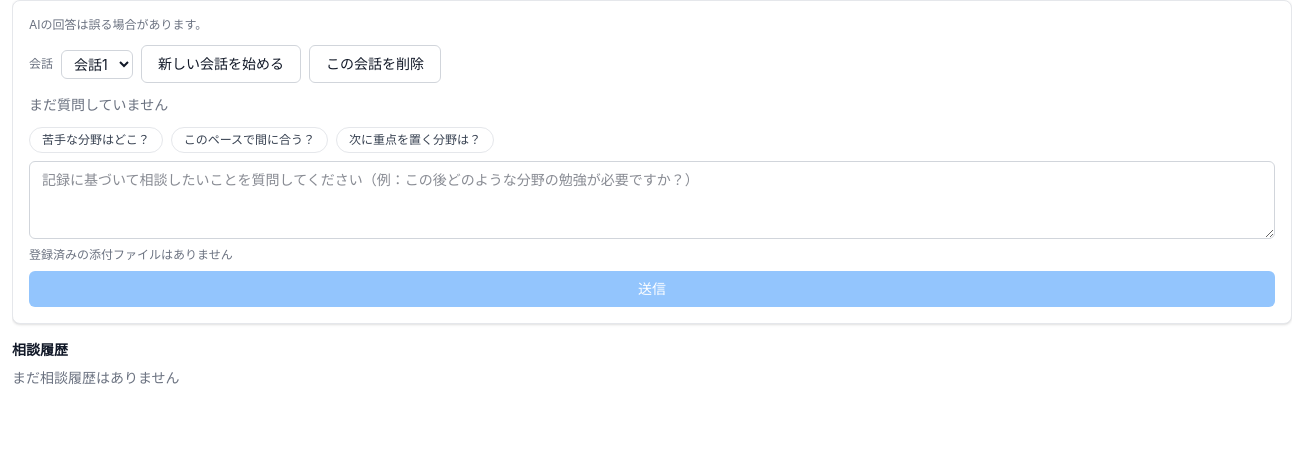
GoalConsultationTab › 送信中は入力を無効化し、送信中の表示を出す
Step 1. Type "質問" into the text box labelled "記録に基づいて相談したいことを質問してください（例：この後どのような分野の勉強が必要ですか？）" → (652, 200), box [29,161,1275,239]
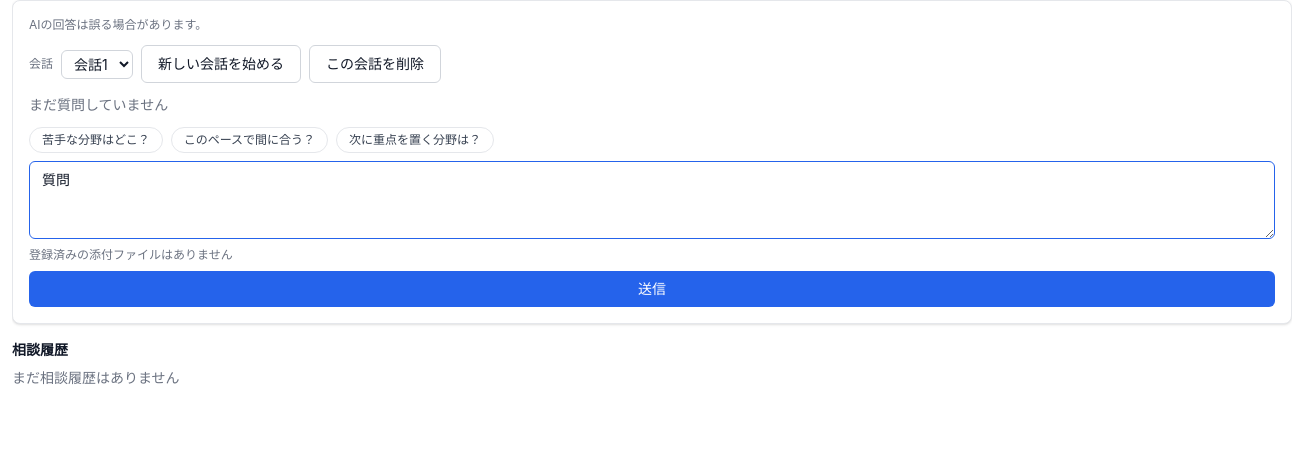
Step 2. Click the button "送信" → (652, 289), box [29,271,1275,307]
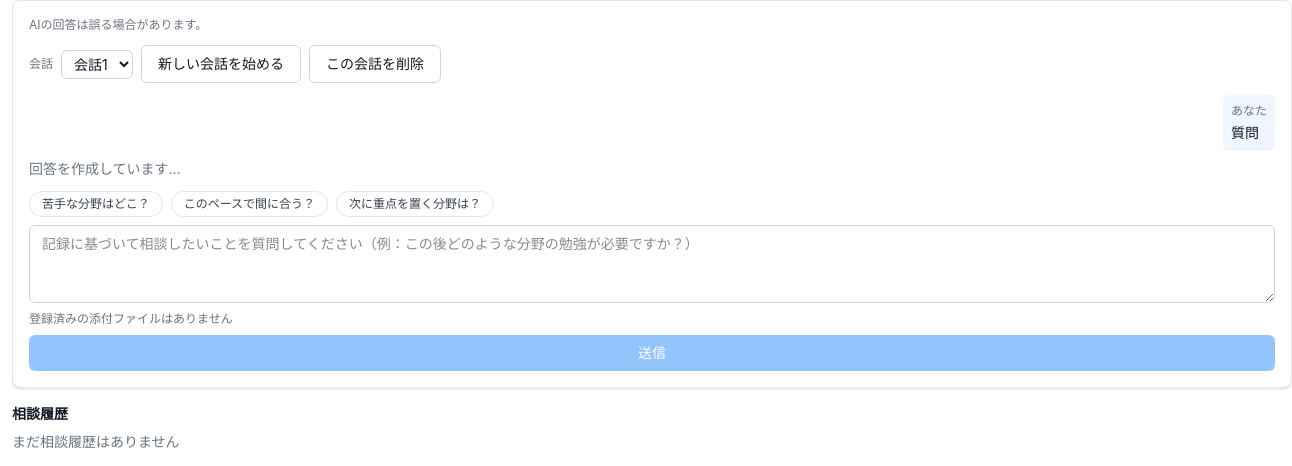
Now the text "回答を作成しています…" is shown, box [29,160,181,177]
